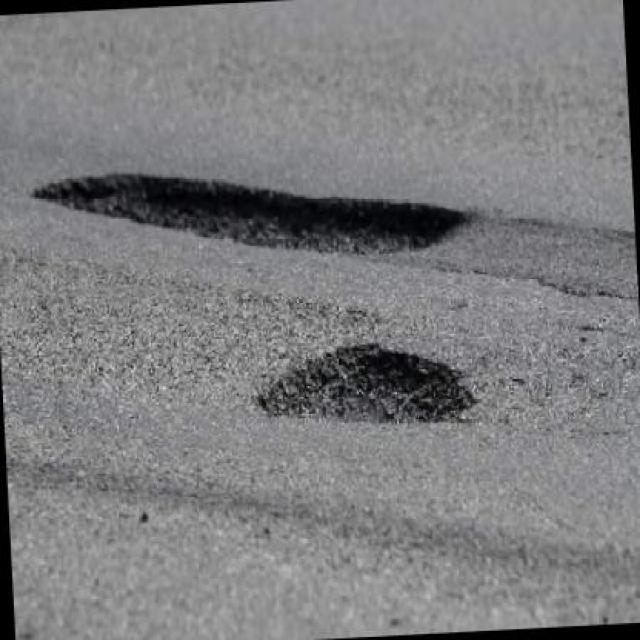pothole: (29, 152, 477, 277), (252, 338, 480, 440)
